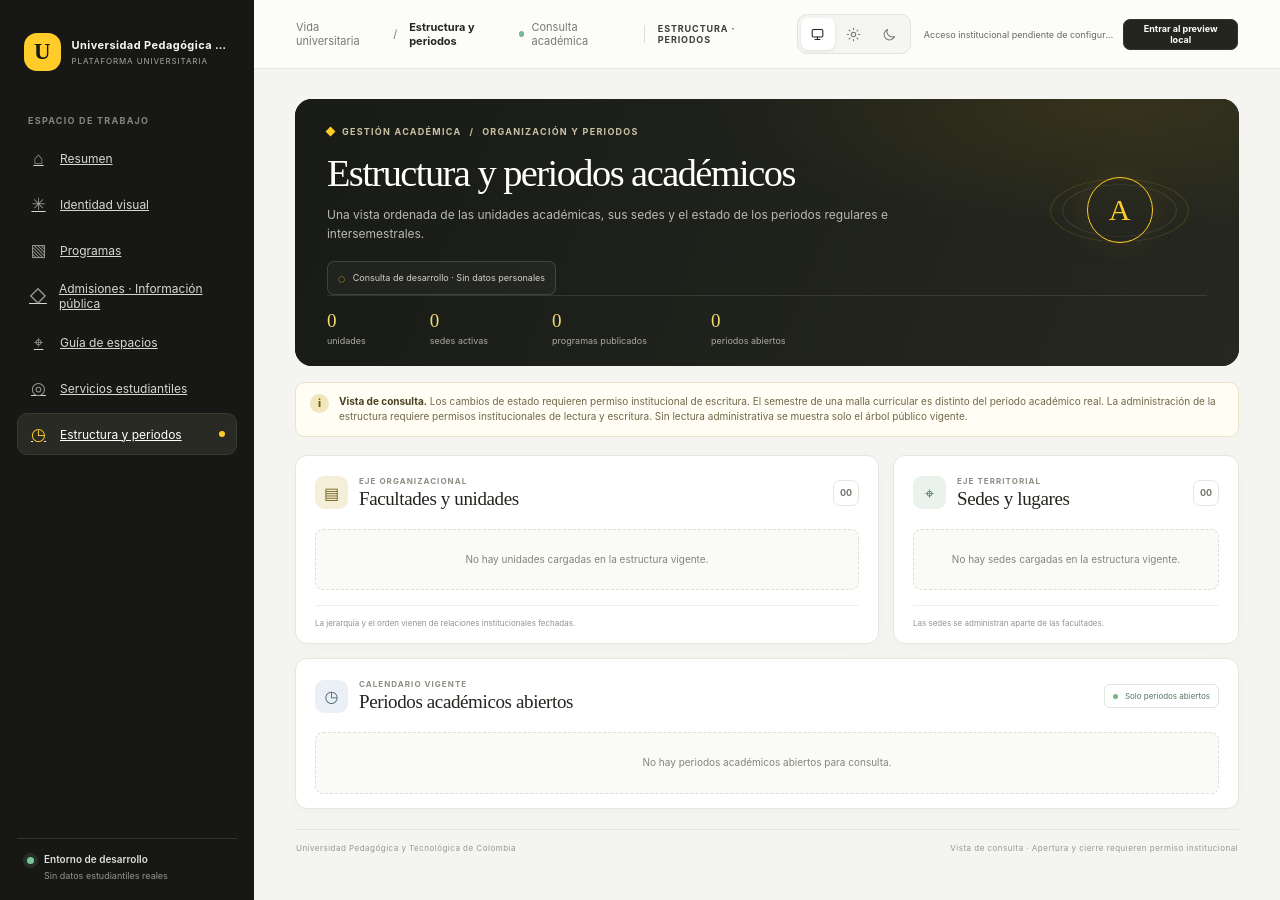
App › labels local developer access and opens only modules returned by the current-identity API
The width and height of the screenshot is (1280, 900).
Click the button "Entrar al preview local" at (1181, 34), box [1123,18,1238,50]
(page scrolled)
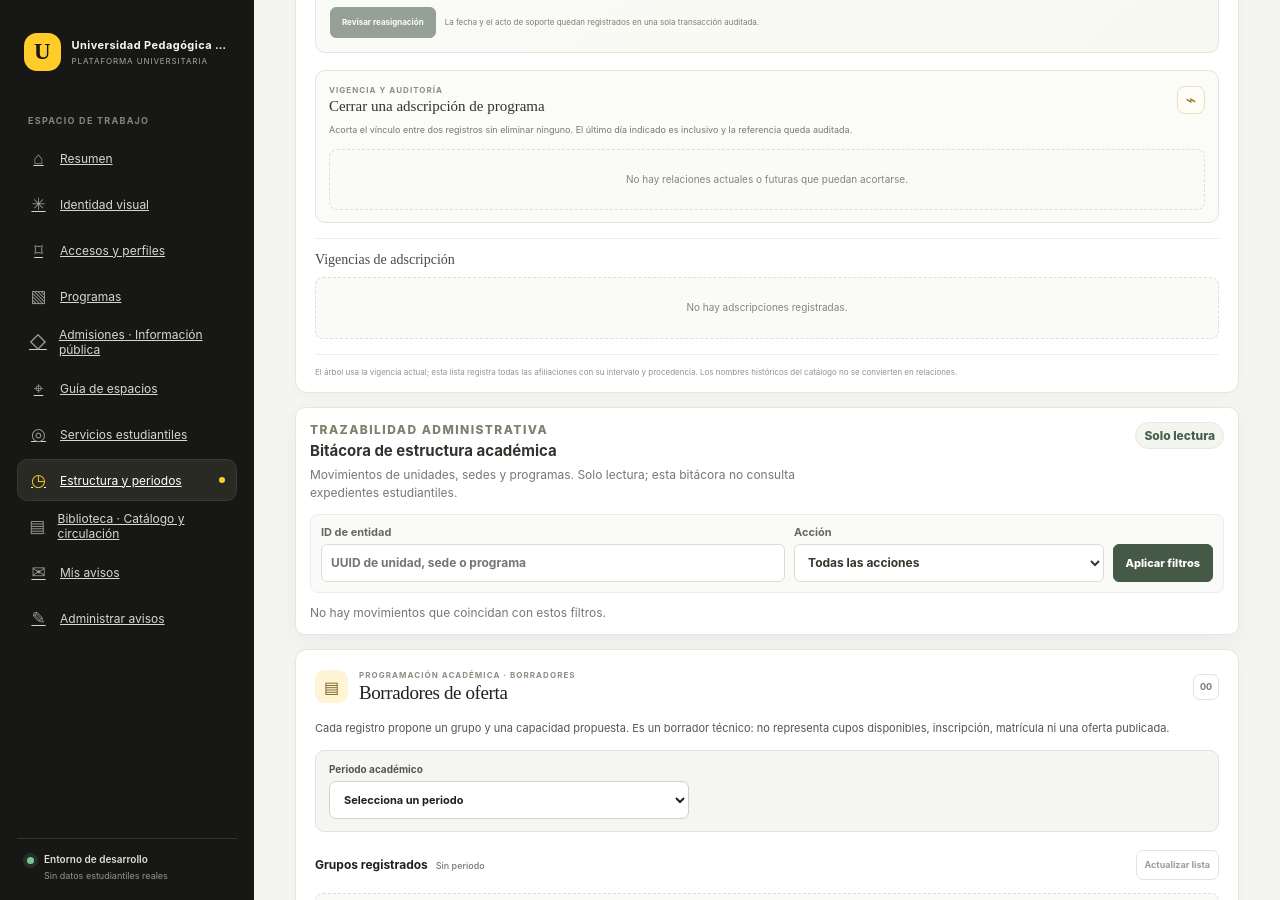
Now the heading "Bitácora de estructura académica" is shown, box [310,441,557,460]
